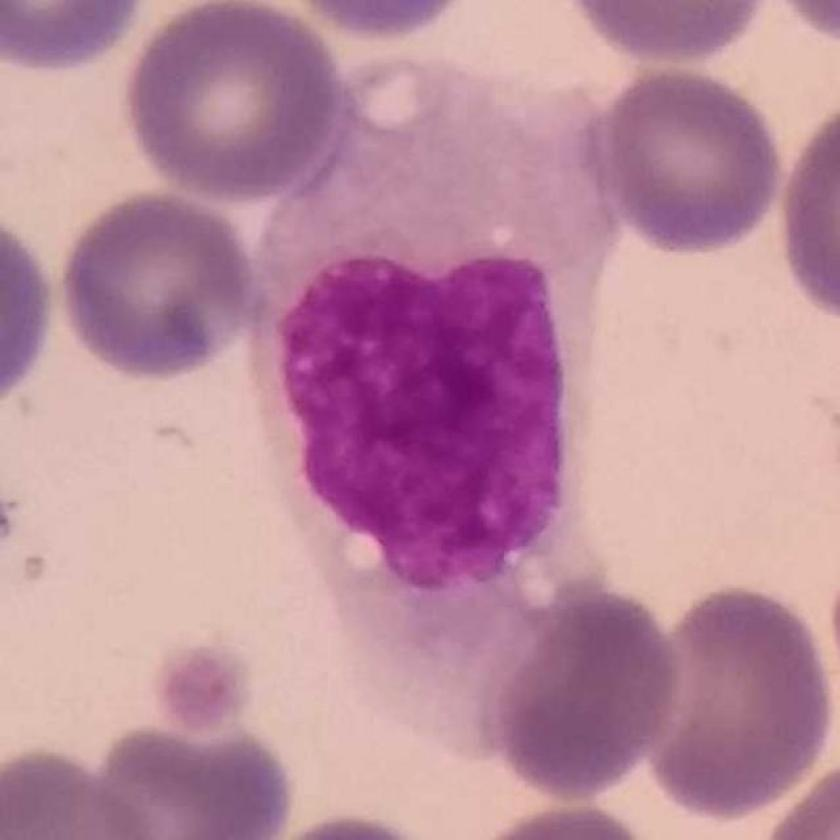monocyte: (250, 55, 644, 770)
